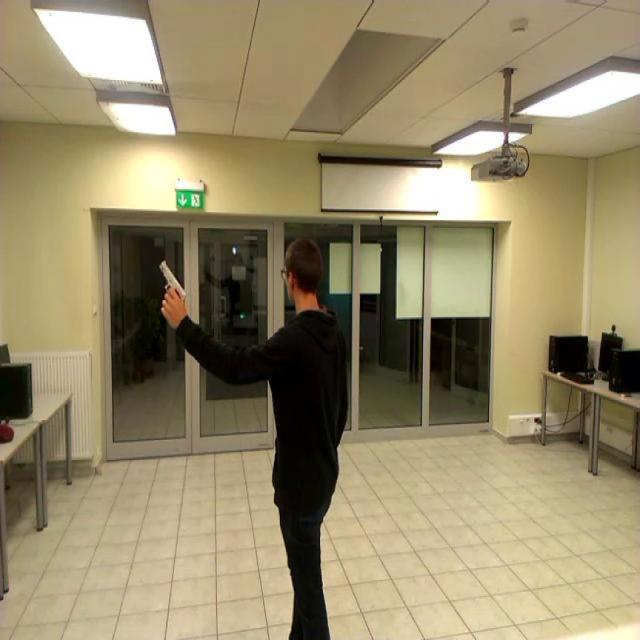pistol: (160, 258, 188, 314)
